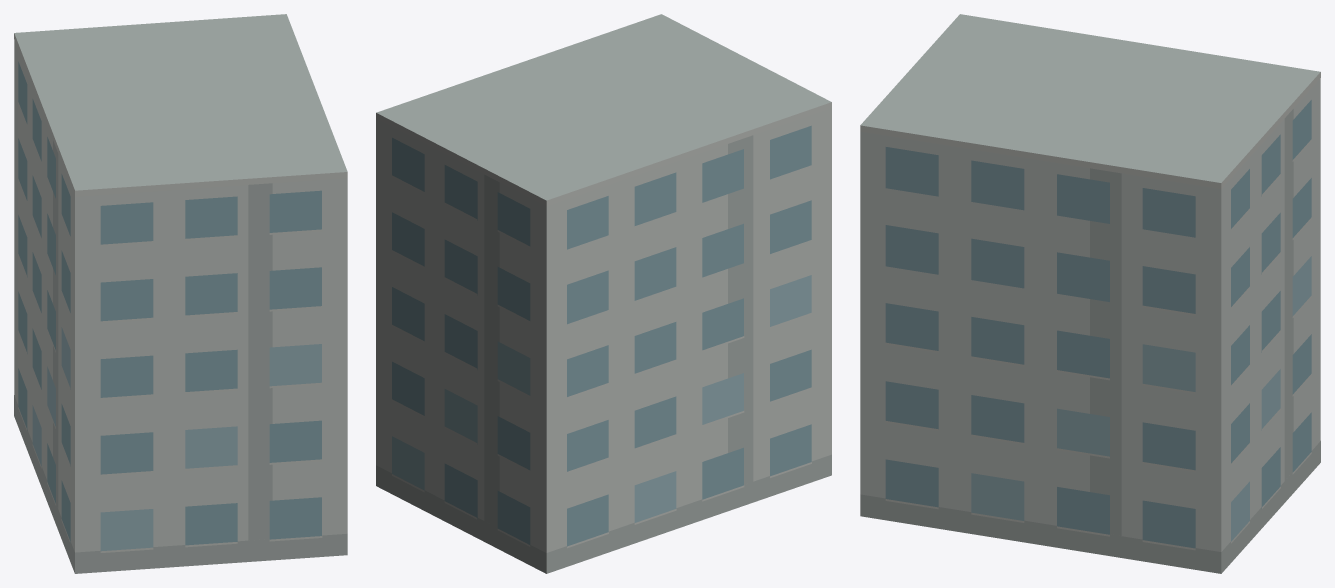
The model's file is residential-ed6f9cfe-4f18-46e9-bff6-4be1e5f72d44.glb.
3 views of the same model, side by side, from view 1: azimuth 30°, elevation 25°; view 2: azimuth 150°, elevation 25°; view 3: azimuth 270°, elevation 25° (orthographic). The views are drawn at different scales.
Parts seen in each view (by area): view 1: residential-ed6f9cfe-4f18-46e9-bff6-4be1e5f72d44.tmp; view 2: residential-ed6f9cfe-4f18-46e9-bff6-4be1e5f72d44.tmp; view 3: residential-ed6f9cfe-4f18-46e9-bff6-4be1e5f72d44.tmp.
Boxes of the visible parts, <box> form: residential-ed6f9cfe-4f18-46e9-bff6-4be1e5f72d44.tmp: <box>14,14,347,573</box>; residential-ed6f9cfe-4f18-46e9-bff6-4be1e5f72d44.tmp: <box>376,14,831,573</box>; residential-ed6f9cfe-4f18-46e9-bff6-4be1e5f72d44.tmp: <box>860,14,1320,573</box>.
Size of the model in its own units: 14.16 by 15.25 by 16.3.
